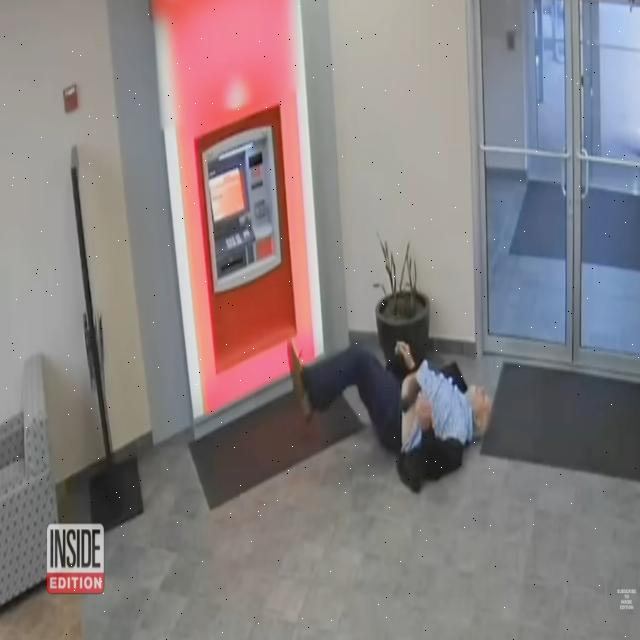fallen: (288, 342, 491, 492)
